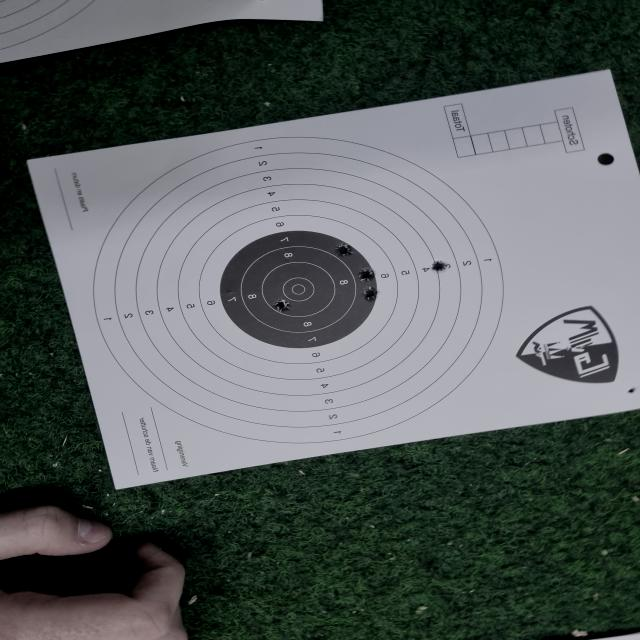4: (432, 260, 448, 272)
7: (333, 243, 353, 257), (362, 286, 379, 301), (358, 268, 375, 282)
9: (274, 300, 290, 312)
Target: (93, 136, 505, 444)
black_contour: (220, 230, 377, 348)
